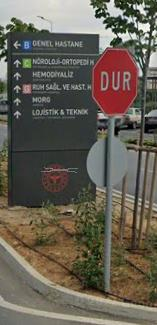stop: (92, 49, 138, 117)
